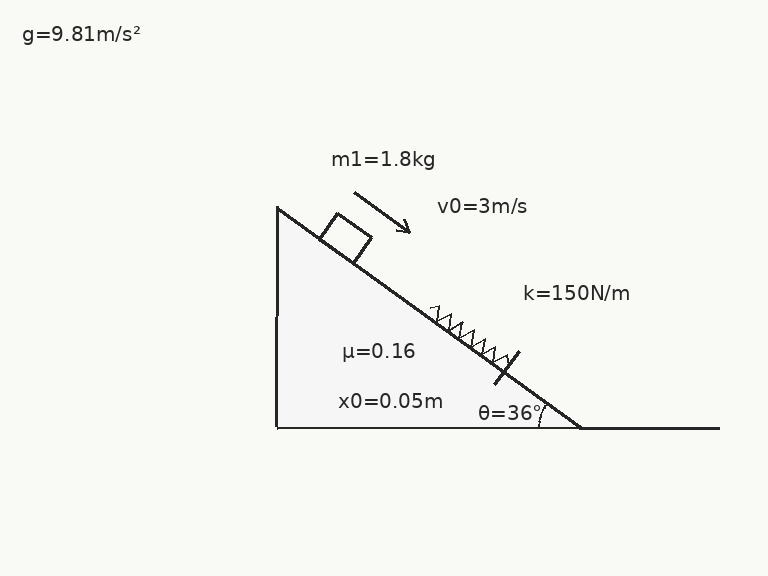block: (317, 212, 373, 265)
ramp: (274, 205, 581, 429)
spring: (428, 304, 511, 367)
